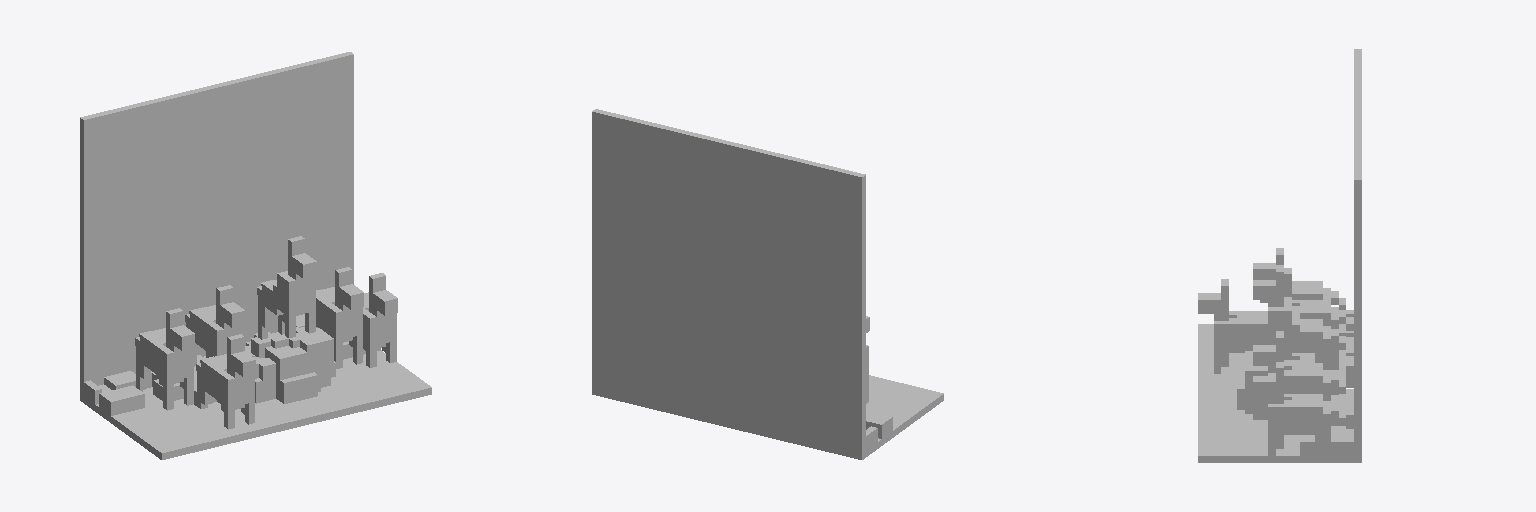
File: Llamawar.obj
3 renders of one model, left to right at view 1: azimuth 30°, elevation 25°; view 2: azimuth 150°, elevation 25°; view 3: azimuth 270°, elevation 25°, orthographic.
Bounding box in the file's own units: 40 × 40 × 21.